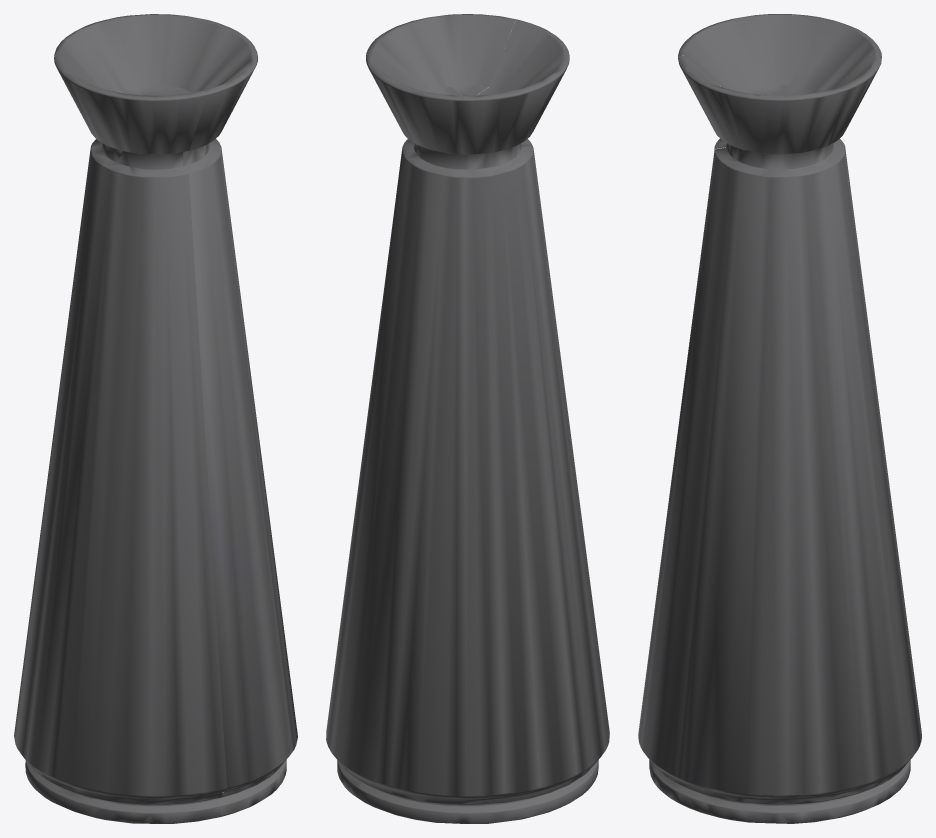
The model's file is 02_dama_cerna.glb.
3 views of the same model, side by side, from view 1: azimuth 30°, elevation 25°; view 2: azimuth 150°, elevation 25°; view 3: azimuth 270°, elevation 25° (orthographic).
Parts seen in each view (by area): view 1: 02_dama_cerna; view 2: 02_dama_cerna; view 3: 02_dama_cerna.
Part boxes in pixels (bbox=[...]): 02_dama_cerna: bbox=[14, 14, 297, 823]; 02_dama_cerna: bbox=[326, 14, 609, 823]; 02_dama_cerna: bbox=[638, 14, 921, 823].
Bounding box in the file's own units: 0.0341 × 0.0946 × 0.0341.
Materials: 1 (1 with a texture image).
